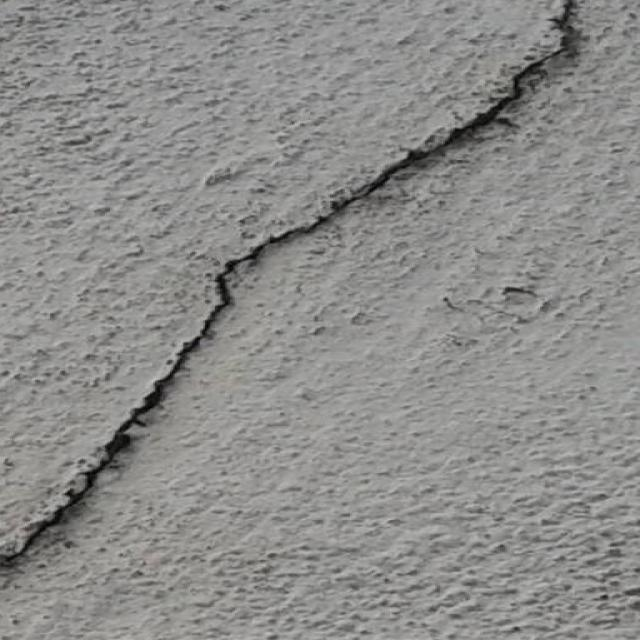crack: (0, 1, 592, 570)
